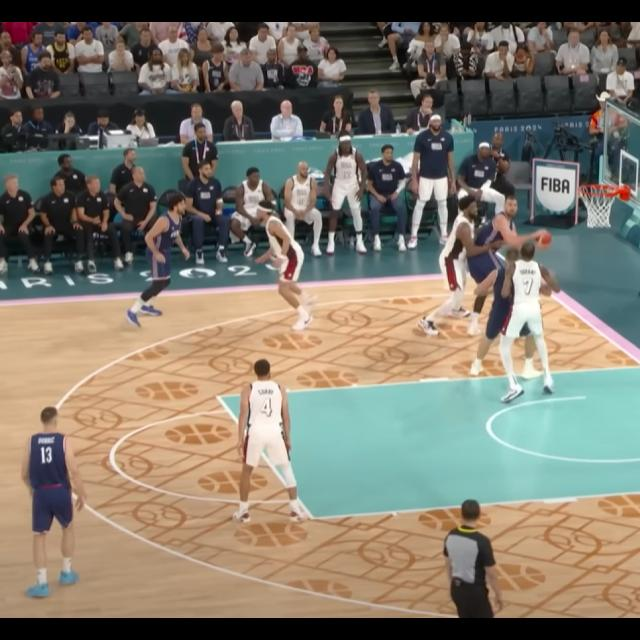basketball: (536, 231, 550, 245)
hoop: (578, 183, 619, 231)
